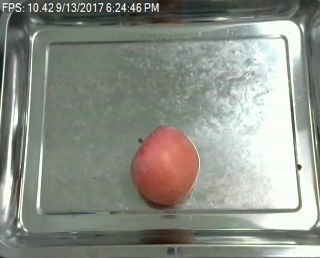Apple: (131, 124, 198, 208)
